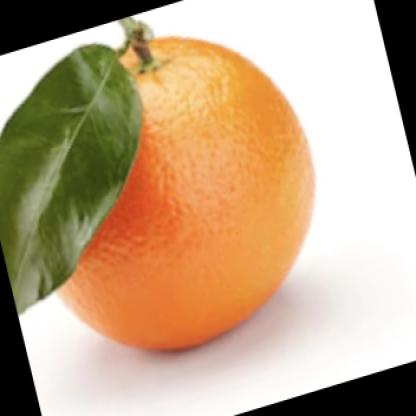fresh: (43, 35, 315, 355)
